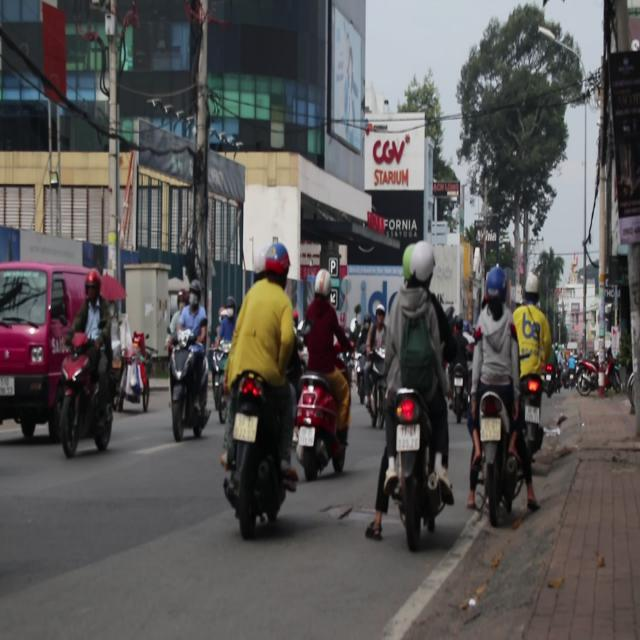motorbike: (218, 374, 292, 548), (385, 382, 451, 548), (52, 327, 117, 459), (292, 374, 348, 479), (476, 388, 514, 526), (170, 342, 212, 443), (513, 366, 551, 446), (576, 359, 598, 396)
truck: (1, 259, 115, 443)
